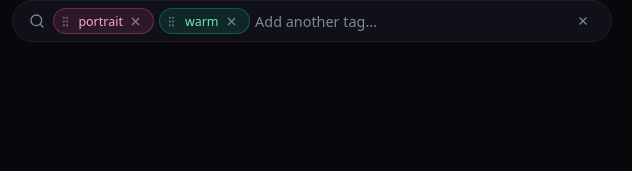
Test case: SearchBar accessibility › replaces the complete chips and draft query when a history row is selected
In the dropdown named "Search tags": (409, 21) [255, 7, 563, 35], type "draft"
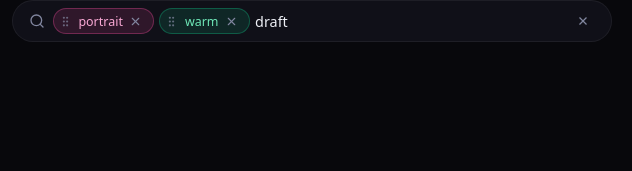
Clear the dropdown named "Search tags": (409, 21) [255, 7, 563, 35]
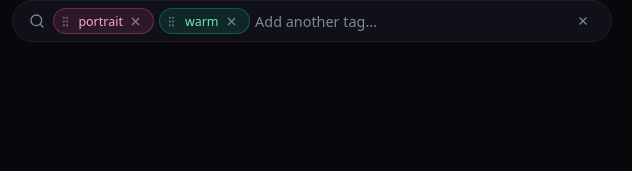
Click the dropdown named "Search tags": (409, 21) [255, 7, 563, 35]
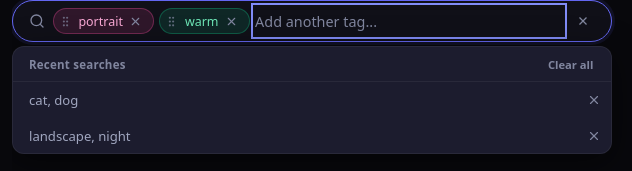
Click the button with aria-label "Use search cat, dog": (54, 100) [13, 82, 577, 118]
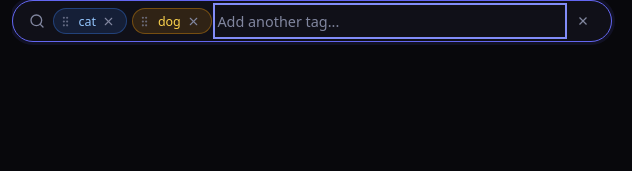
Result: the list item with aria-label "Search tag cat, position 1 of 2" is shown at [53, 8, 127, 34]
Result: the list item with aria-label "Search tag dog, position 2 of 2" is shown at [132, 8, 212, 34]
